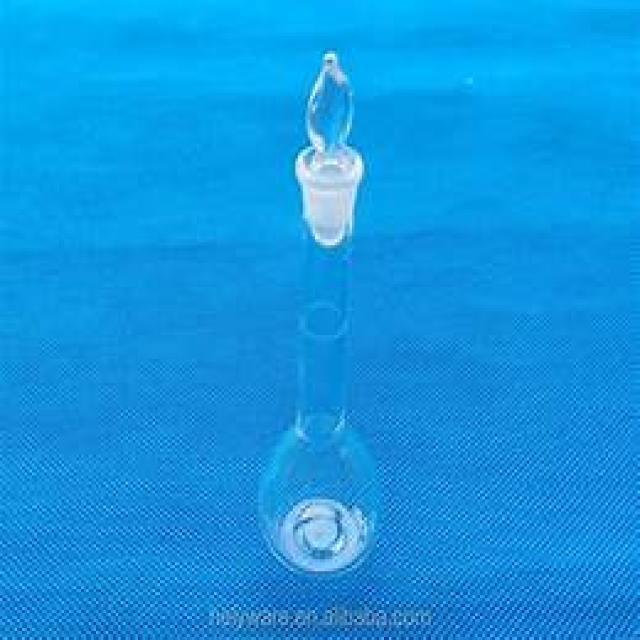Volumetric flask: (241, 43, 387, 572)
